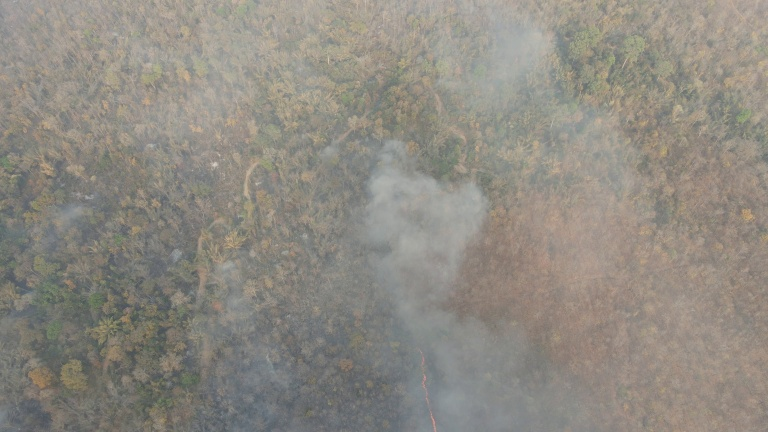fire: (411, 347, 464, 432)
smoke: (359, 158, 487, 321)
